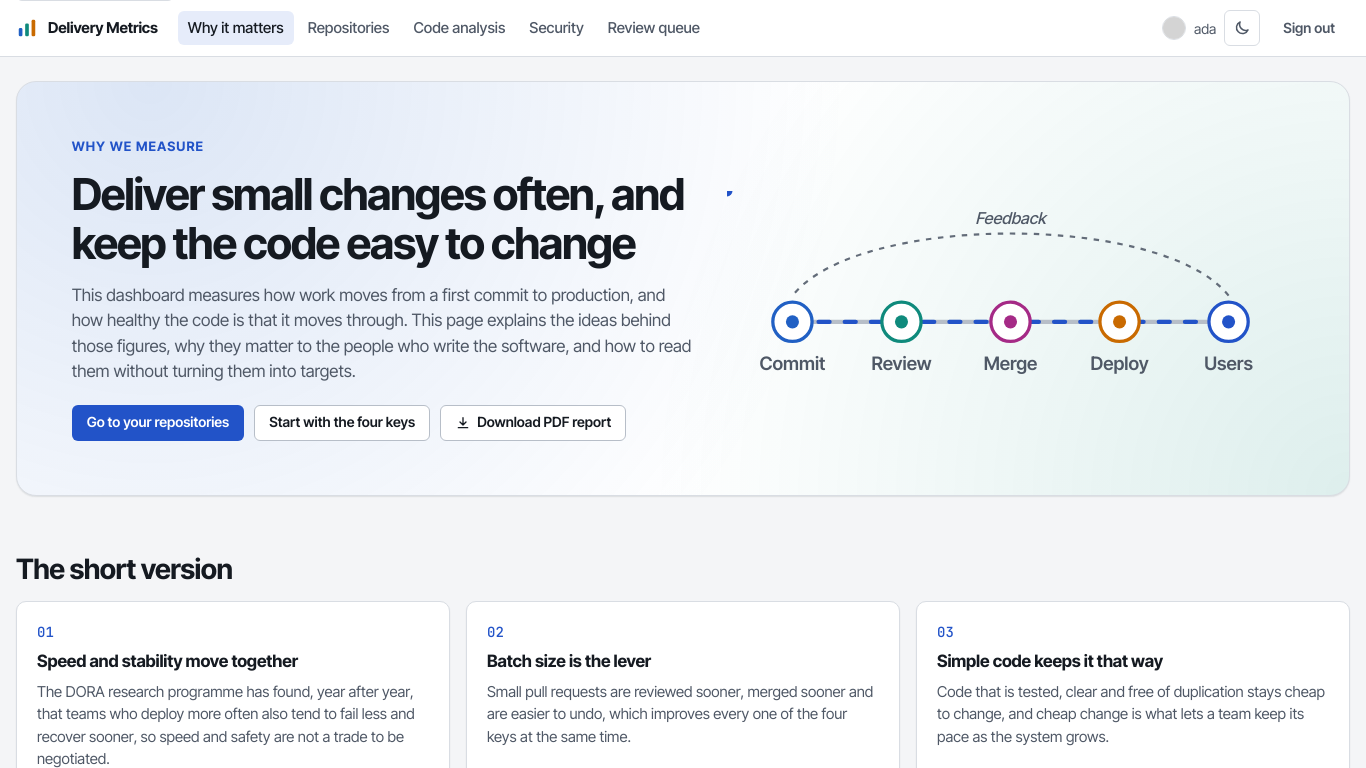
Test: App sign-in gate › shows the signed-in user, toggles the theme and signs out in OAuth mode
Expected: the text "ada" is shown, x1=1194 y1=18 x2=1216 y2=38
Expected: the heading "Deliver small changes often, and keep the code easy to change" is shown, x1=72 y1=170 x2=695 y2=269
Click the link "Repositories".
click(349, 27)  # box x1=308 y1=18 x2=389 y2=37
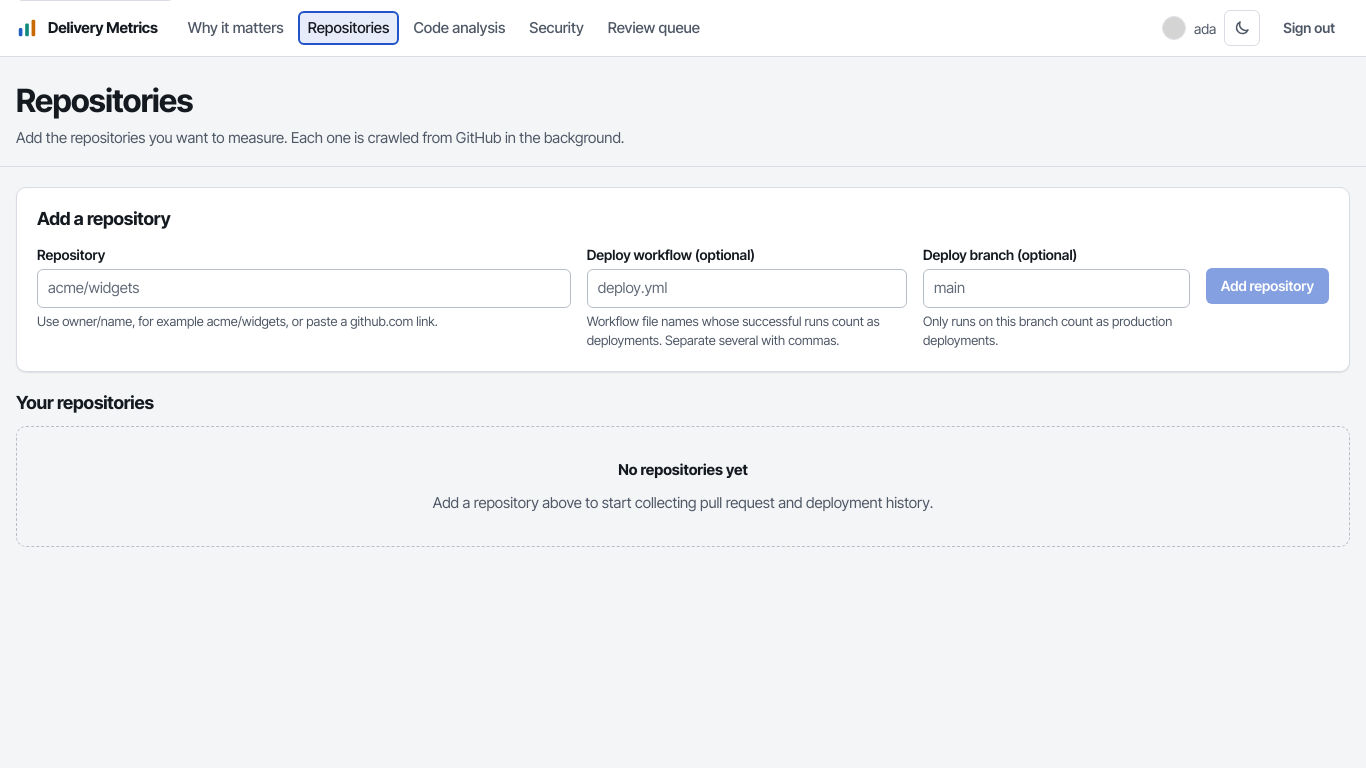
Now the heading "Repositories" is shown, box x1=16 y1=81 x2=193 y2=120
Click the button named "Switch to dark theme".
click(1242, 28)  # box x1=1224 y1=10 x2=1260 y2=46
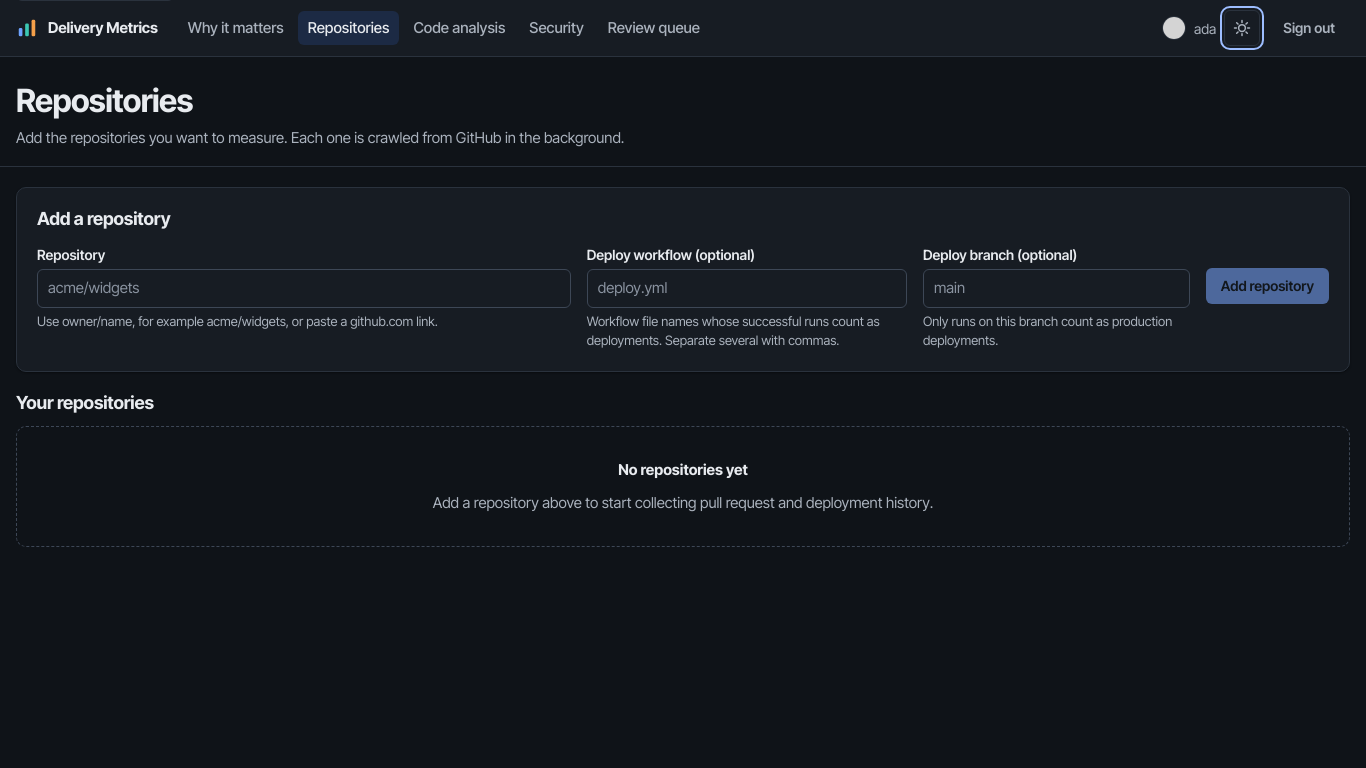
Click the button named "Switch to light theme".
click(1242, 28)  # box x1=1224 y1=10 x2=1260 y2=46
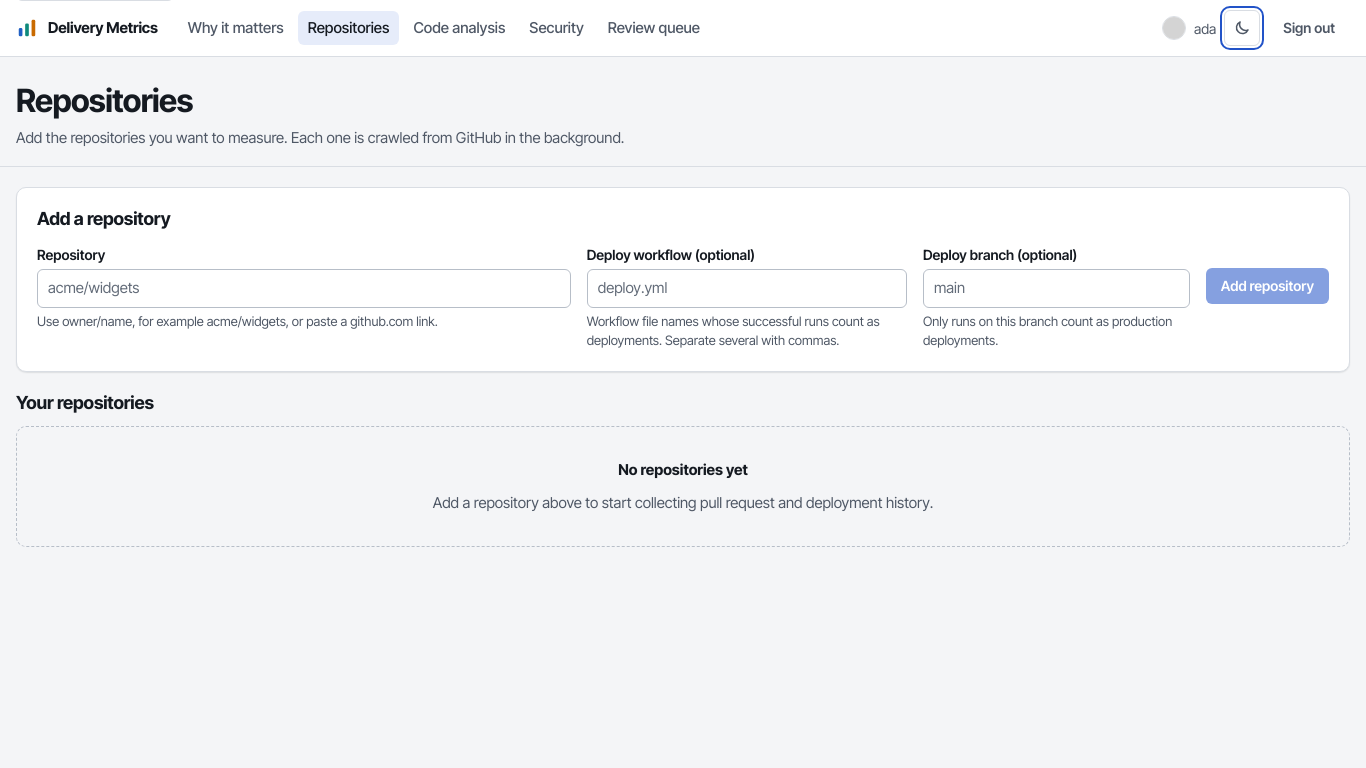
Click the button "Sign out".
click(1309, 28)  # box x1=1268 y1=10 x2=1350 y2=46
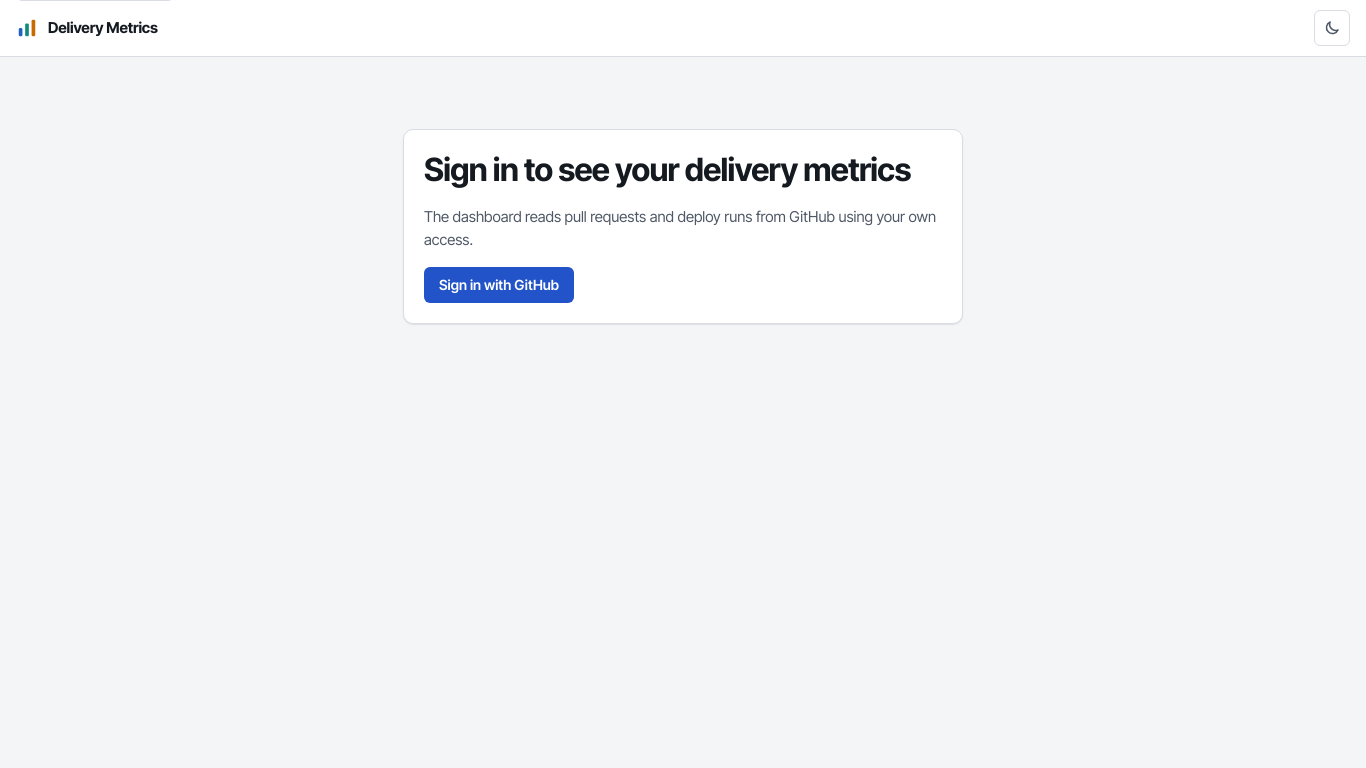
Now the link "Sign in with GitHub" is shown, box x1=424 y1=267 x2=574 y2=303
